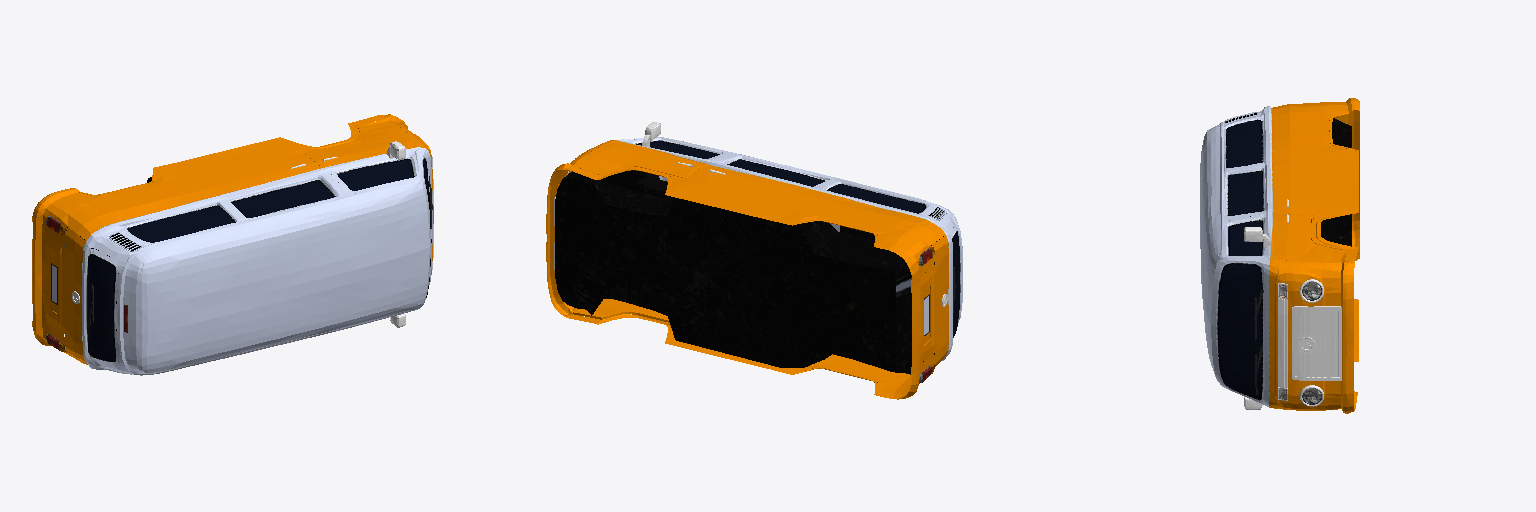
3 views of the same model, side by side, from view 1: azimuth 30°, elevation 25°; view 2: azimuth 150°, elevation 25°; view 3: azimuth 270°, elevation 25° (orthographic).
Visible parts, largest first — view 1: Volks_Van_Chassis_0416; view 2: Volks_Van_Chassis_0416; view 3: Volks_Van_Chassis_0416.
Part boxes in pixels (x1,y1,x2,y2): Volks_Van_Chassis_0416: (32, 114, 433, 375); Volks_Van_Chassis_0416: (546, 122, 962, 399); Volks_Van_Chassis_0416: (1200, 98, 1359, 413).
Bounding box in the file's own units: 4.8 × 2.22 × 1.79.
Materials: 2 (2 with a texture image).